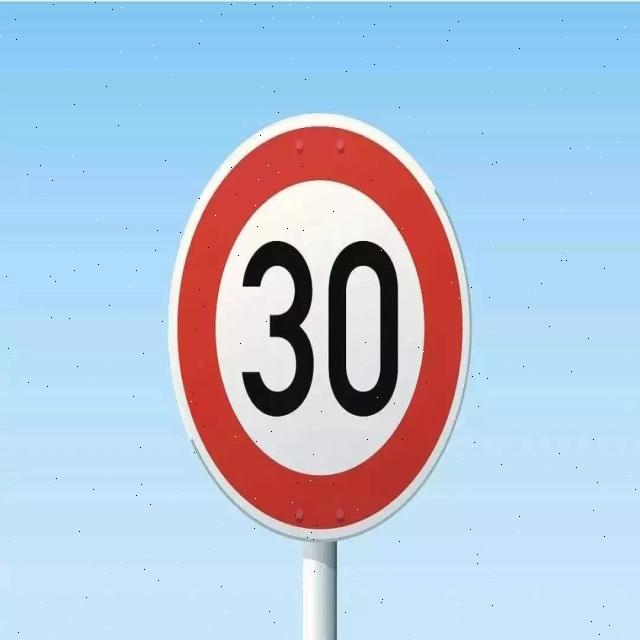speed limit 30: (168, 113, 472, 541)
